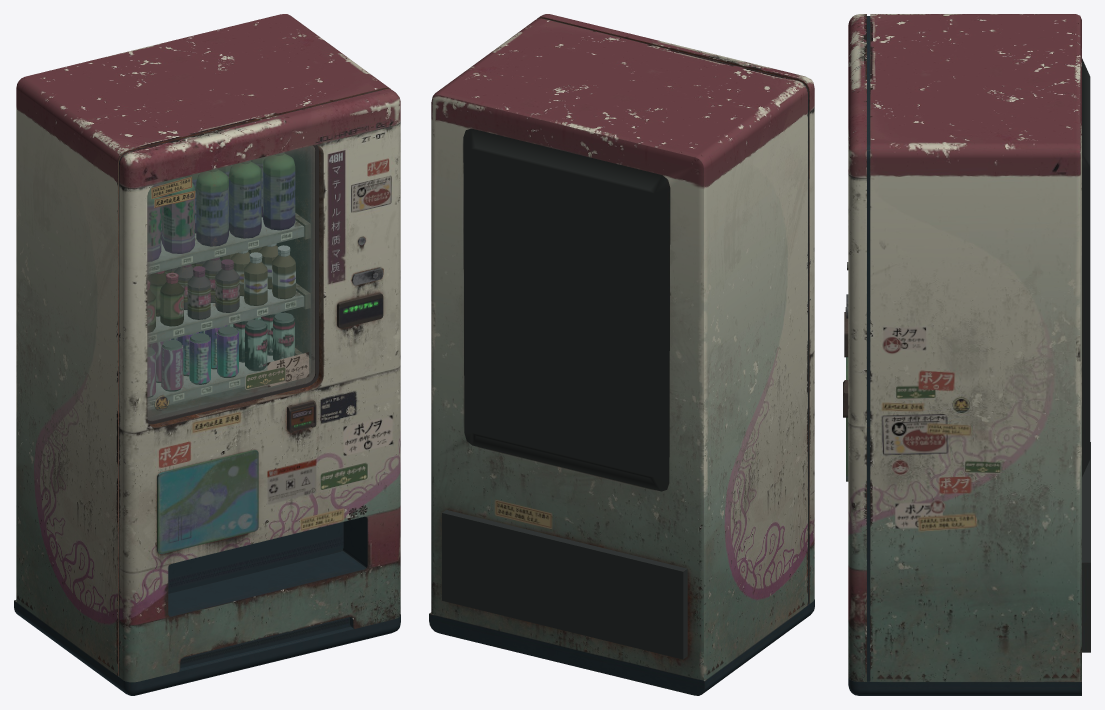
File: der_wunderfizz.glb
3 renders of one model, left to right at view 1: azimuth 30°, elevation 25°; view 2: azimuth 150°, elevation 25°; view 3: azimuth 270°, elevation 25°, orthographic. The views are drawn at different scales.
Parts seen in each view (by area): view 1: VendingMachine_01, VendingGlass_01; view 2: VendingMachine_01; view 3: VendingMachine_01.
Part boxes in pixels (x1=…): VendingMachine_01: x1=14, y1=14, x2=400, y2=695; VendingGlass_01: x1=147, y1=145, x2=315, y2=420; VendingMachine_01: x1=429, y1=14, x2=814, y2=695; VendingMachine_01: x1=843, y1=14, x2=1090, y2=695.
Size of the model in its own units: 0.9518 by 1.78 by 0.7247.
Materials: 2 (2 with a texture image).
